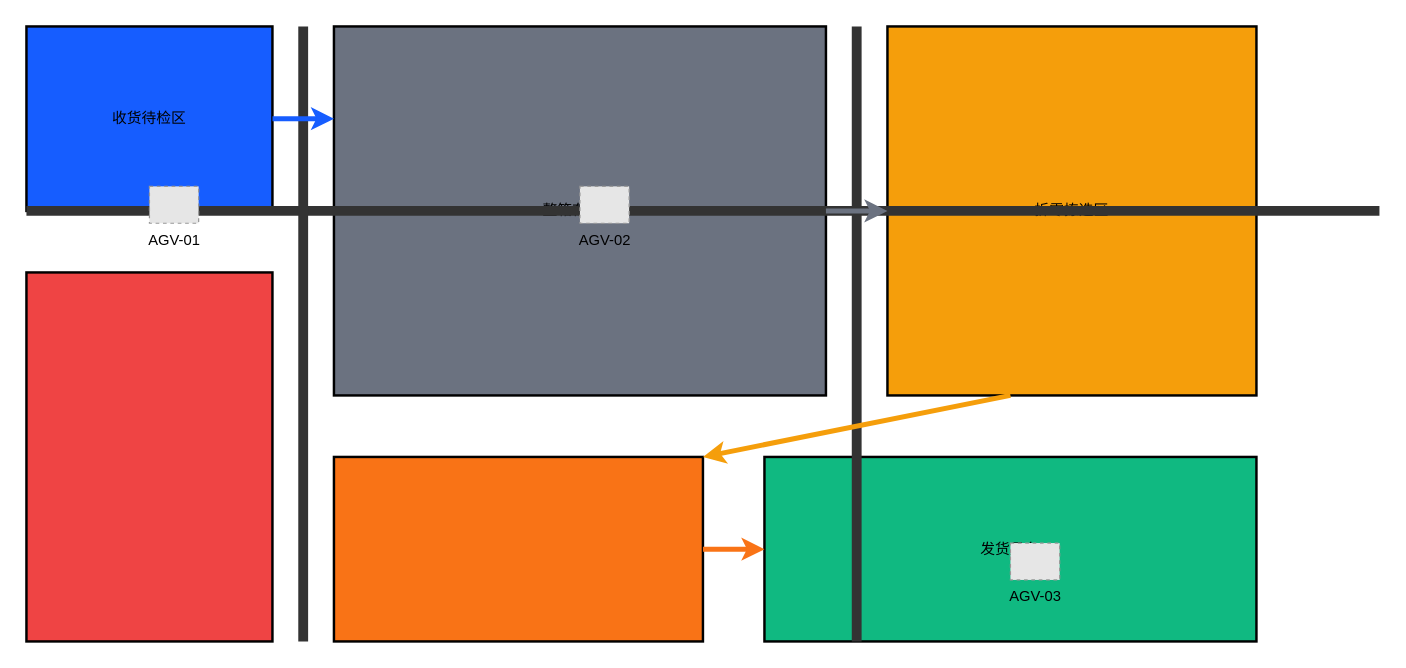
The diagram is 1406 pixels wide and 668 high, and some of its shapes have lost their labels. Grey dashed boxes stand in for pictures. Each missing label, with the centre of its shape:
复核打包区: the point at 518,548
异常/退货区: the point at 149,456
